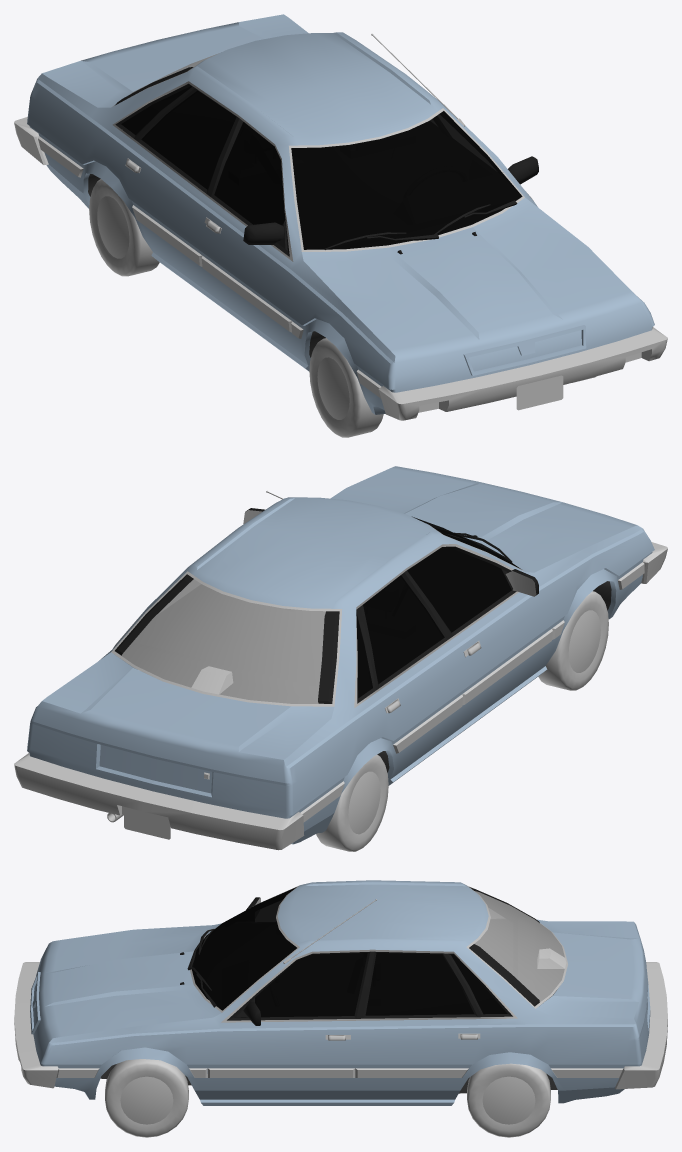
Rendered from subaru.obj.
The picture shows the model from 3 angles, top to bottom: view 1: azimuth 30°, elevation 25°; view 2: azimuth 150°, elevation 25°; view 3: azimuth 270°, elevation 25°; orthographic projection. The views are drawn at different scales.
Visible parts, largest first — view 1: Body, Interior, Windshield, Bumpers, Windows, Wheel, Wheel_1, Window_Molding_-_Black, Window_Molding_-_Silver, Grill, License_Plate_-_Front; view 2: Body, Interior, Rear_Window, Bumpers, Windows, Wheel, Wheel_1, Window_Molding_-_Silver, Window_Molding_-_Black, Body_Molding, License_Plate_-_Rear, Brake_Light (+1 smaller); view 3: Body, Interior, Windows, Bumpers, Windshield, Wheel_3, Rear_Window, Wheel_2, Window_Molding_-_Black, Window_Molding_-_Silver, Body_Molding, Brake_Light (+1 smaller).
Part boxes in pixels (bbox=[...]): Body: bbox=[27, 14, 654, 414]; Interior: bbox=[122, 86, 521, 249]; Windshield: bbox=[291, 111, 522, 249]; Bumpers: bbox=[14, 117, 667, 420]; Windows: bbox=[121, 86, 493, 225]; Wheel: bbox=[309, 338, 383, 437]; Wheel_1: bbox=[89, 179, 159, 276]; Window_Molding_-_Black: bbox=[115, 83, 538, 256]; Window_Molding_-_Silver: bbox=[112, 61, 533, 261]; Grill: bbox=[463, 325, 586, 375]; License_Plate_-_Front: bbox=[516, 375, 563, 410]; Body: bbox=[27, 466, 654, 844]; Interior: bbox=[122, 533, 518, 703]; Rear_Window: bbox=[119, 579, 325, 703]; Bumpers: bbox=[14, 542, 667, 850]; Windows: bbox=[161, 548, 511, 697]; Wheel: bbox=[538, 591, 608, 690]; Wheel_1: bbox=[316, 754, 388, 851]; Window_Molding_-_Silver: bbox=[111, 524, 523, 707]; Window_Molding_-_Black: bbox=[247, 508, 538, 703]; Body_Molding: bbox=[115, 535, 477, 703]; License_Plate_-_Rear: bbox=[124, 807, 170, 839]; Brake_Light: bbox=[192, 666, 232, 693]; Body: bbox=[33, 880, 650, 1105]; Interior: bbox=[192, 888, 564, 1016]; Windows: bbox=[238, 901, 507, 1017]; Bumpers: bbox=[14, 962, 667, 1089]; Windshield: bbox=[191, 887, 296, 1010]; Wheel_3: bbox=[105, 1059, 188, 1137]; Rear_Window: bbox=[474, 891, 566, 1002]; Wheel_2: bbox=[467, 1063, 550, 1137]; Window_Molding_-_Black: bbox=[227, 897, 512, 1025]; Window_Molding_-_Silver: bbox=[190, 885, 567, 1022]; Body_Molding: bbox=[180, 887, 539, 1006]; Brake_Light: bbox=[537, 948, 565, 968].
Size of the model in its own units: 1.57 by 1.31 by 3.7.
